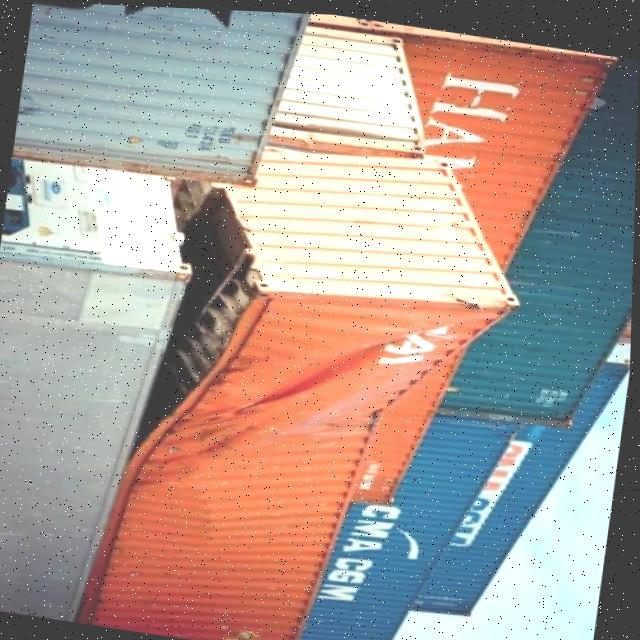dent: (133, 224, 516, 529)
